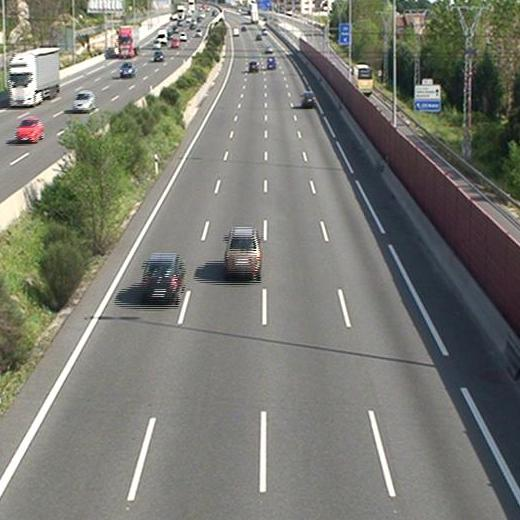car: (142, 254, 184, 301), (224, 227, 261, 278), (301, 92, 315, 107), (248, 61, 259, 73)
van: (266, 55, 276, 69)
